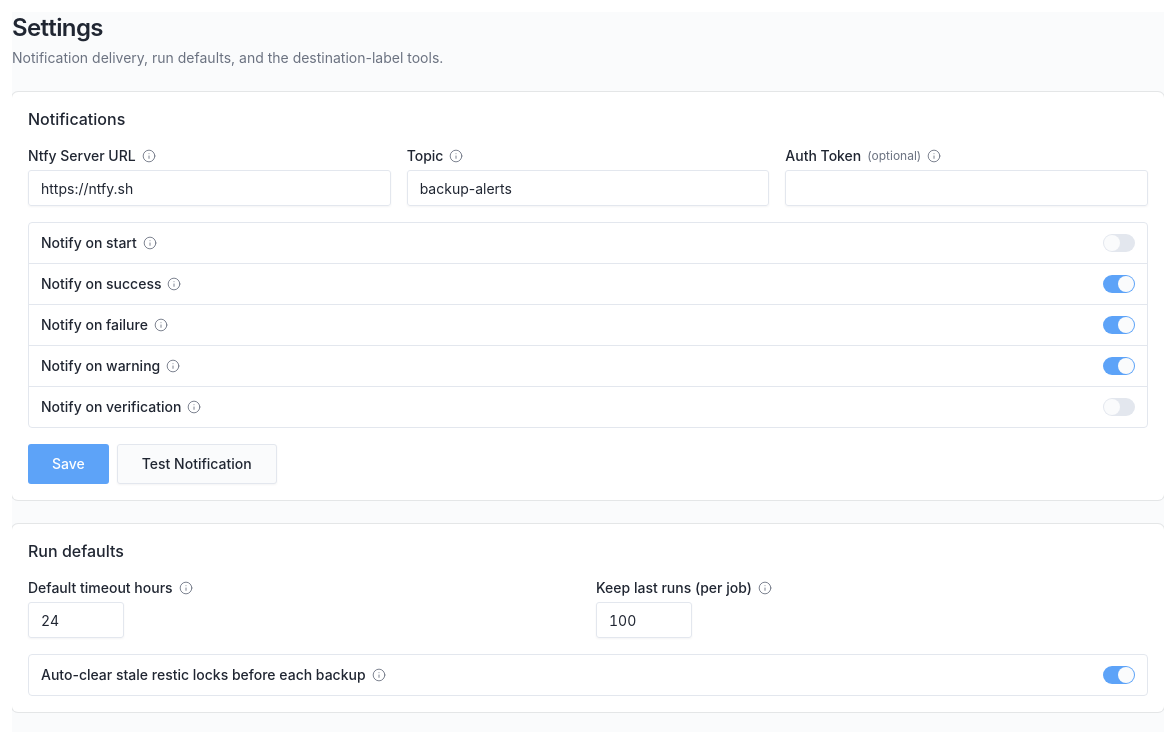
Settings › Test Notification button › shows error message when test fails
This screenshot has width=1164, height=732.
Click the button "Test Notification": (197, 464) [117,444,277,484]
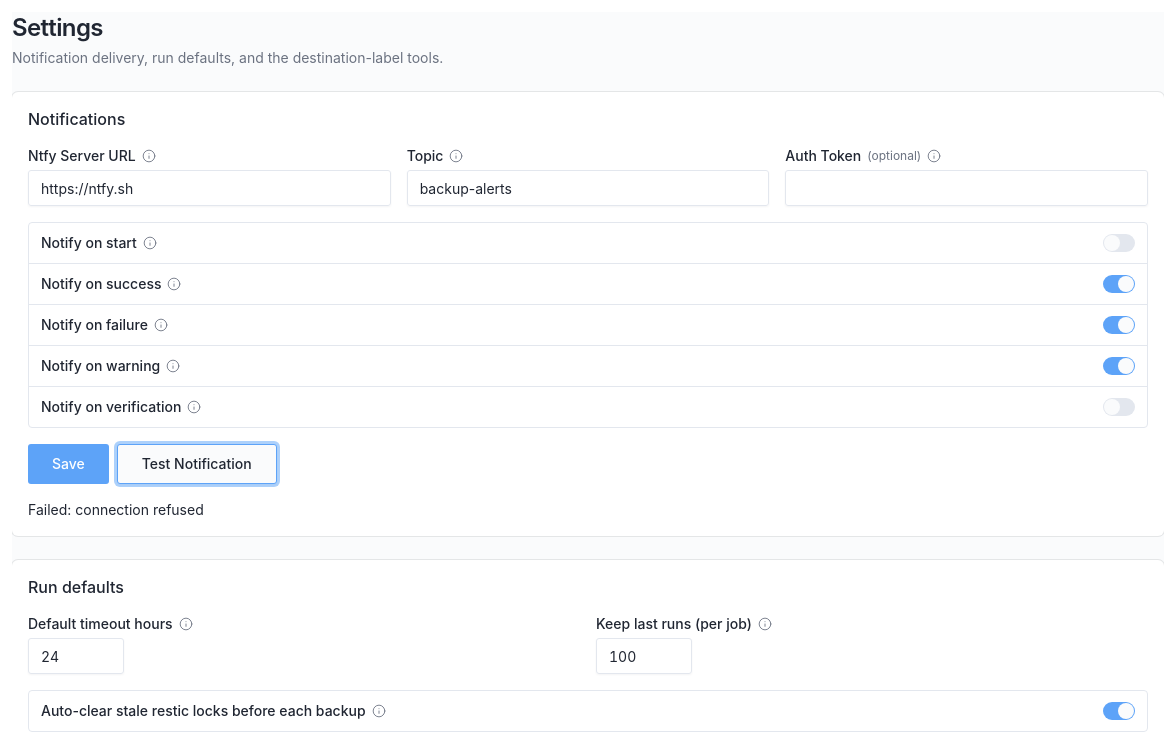
Expected: the text "Failed: connection refused" is shown, [28,501,204,518]
